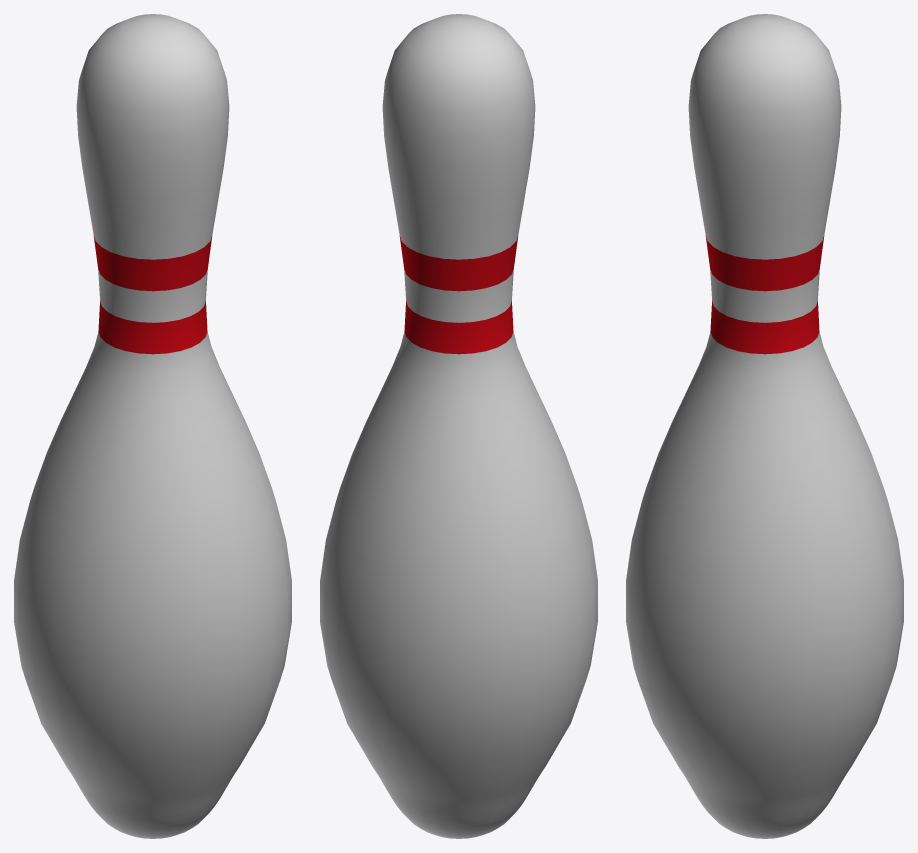
Rendered from Bowling Pin.fbx.
The picture shows the model from 3 angles, left to right: view 1: azimuth 30°, elevation 25°; view 2: azimuth 150°, elevation 25°; view 3: azimuth 270°, elevation 25°; orthographic projection.
Visible parts, largest first — view 1: Pin; view 2: Pin; view 3: Pin.
Boxes of the visible parts, x1=… form: Pin: x1=14, y1=14, x2=291, y2=838; Pin: x1=320, y1=14, x2=597, y2=838; Pin: x1=626, y1=14, x2=903, y2=838.
Size of the model in its own units: 118 by 380 by 118.
